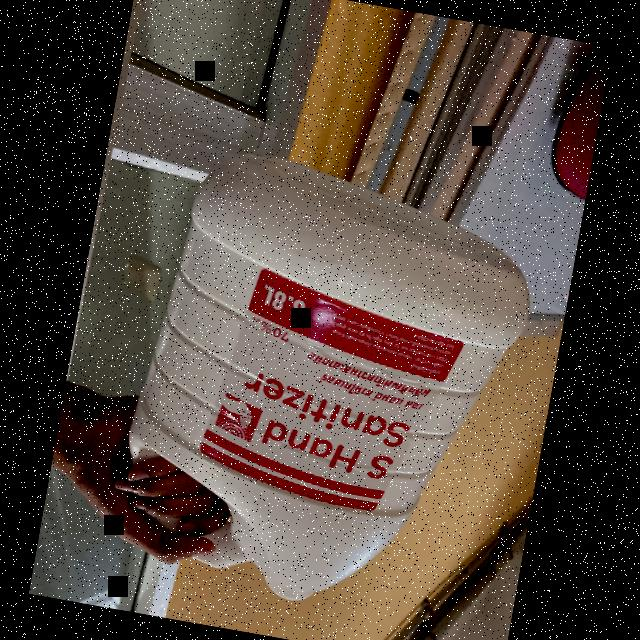chemical_plastic_gallon: (104, 137, 552, 638)
